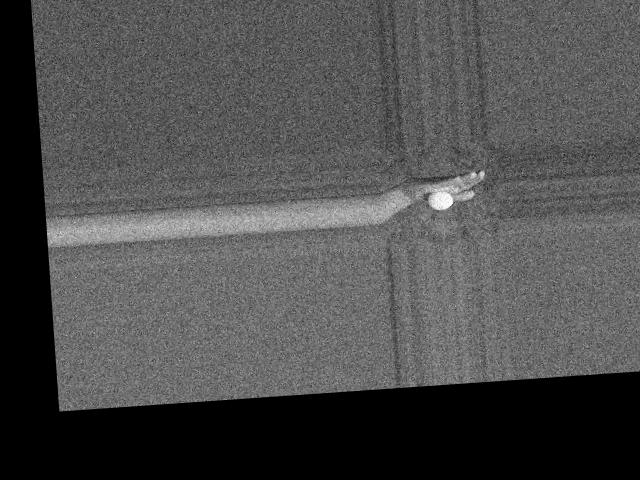egg: (427, 190, 452, 211)
